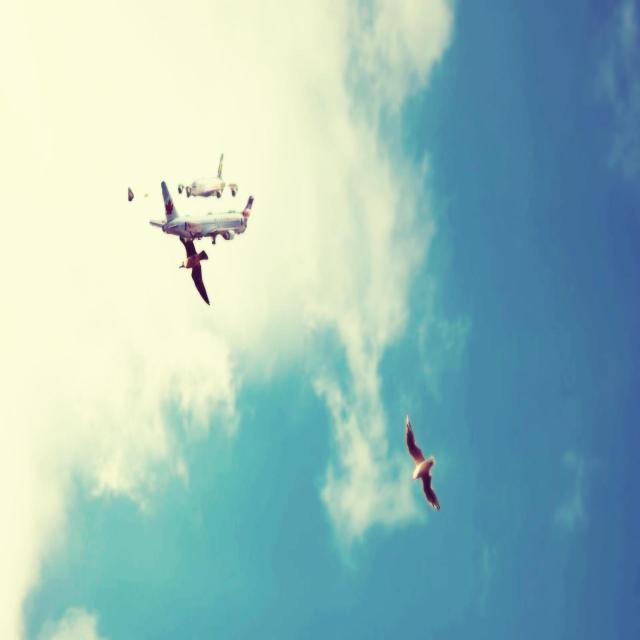airplane: (149, 180, 254, 247), (177, 152, 238, 198)
